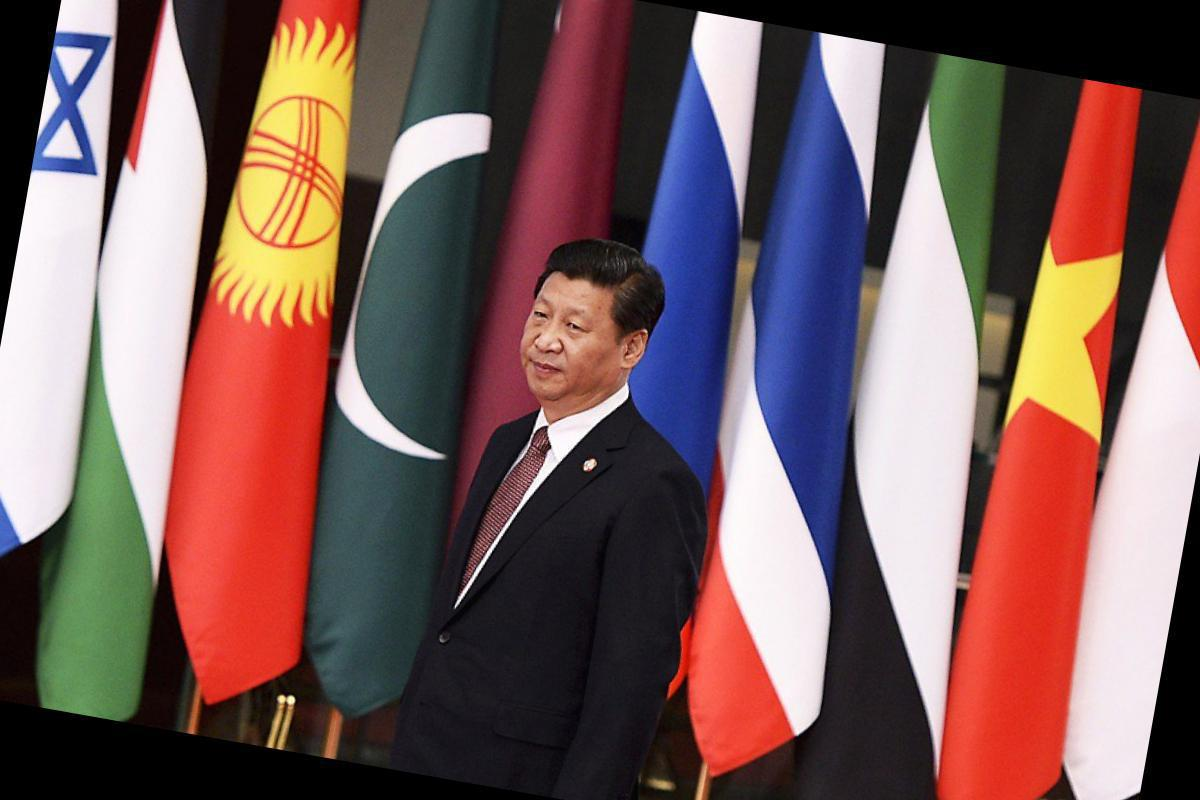Sober: (526, 274, 621, 396)
